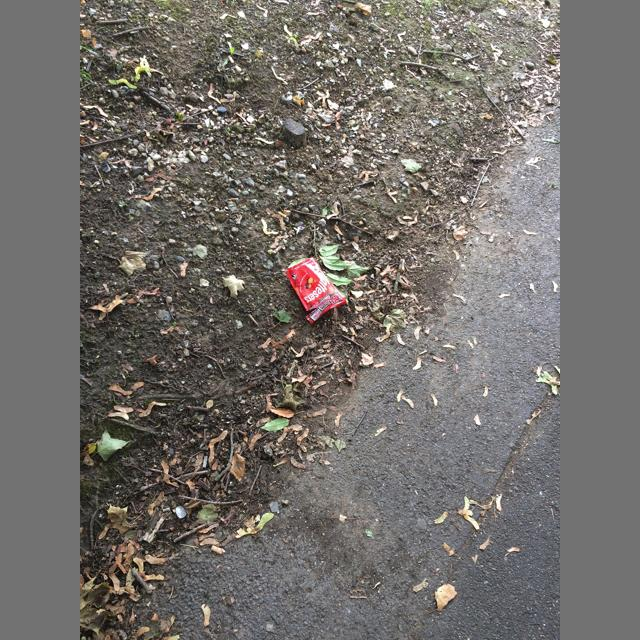litter: (285, 257, 346, 324), (278, 212, 287, 218)
